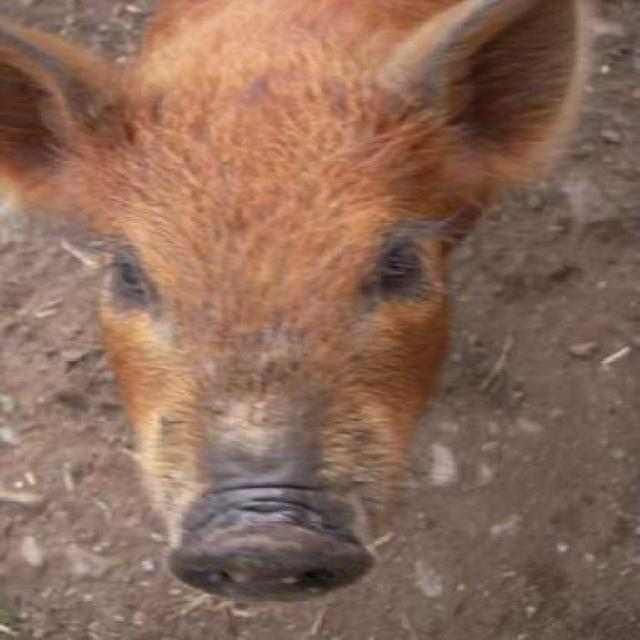pig: (12, 32, 552, 638)
